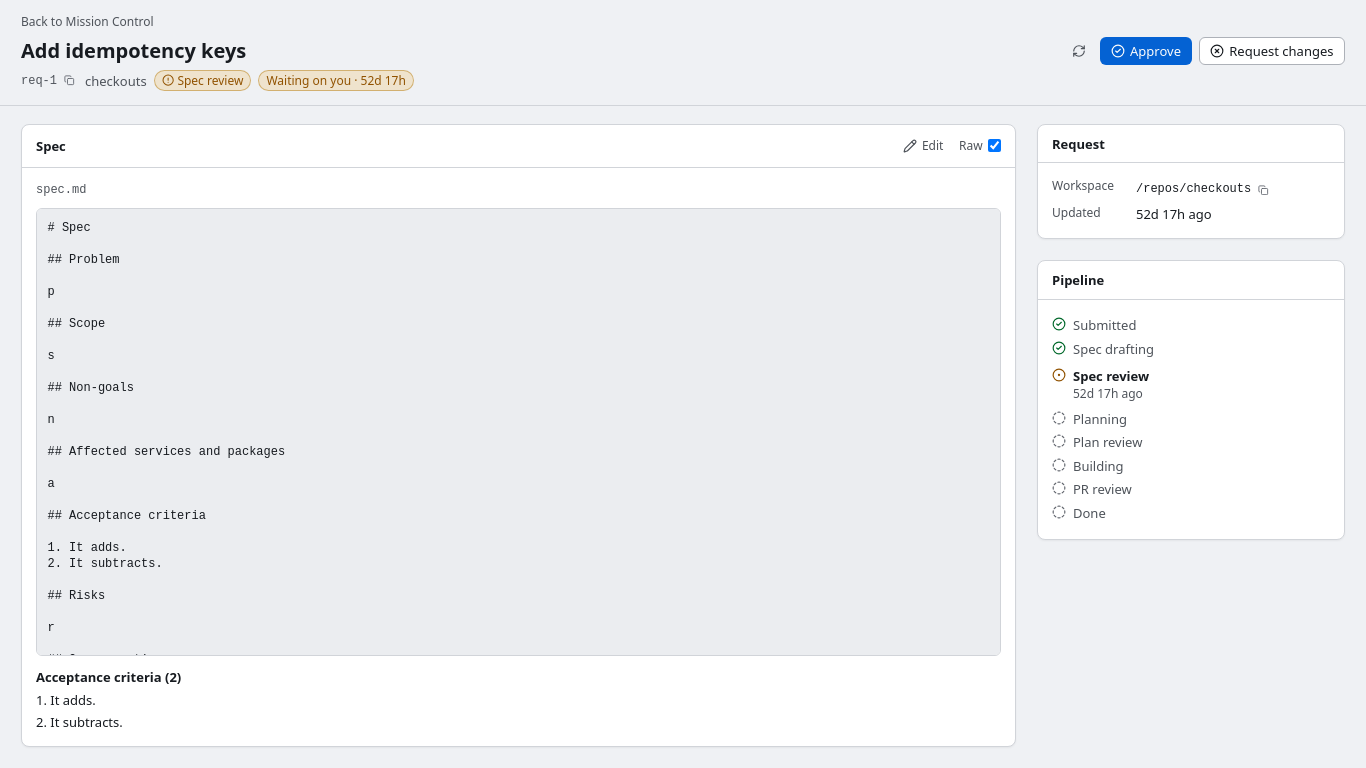
Test case: in the spec editor › a failing checklist does not disable Save, and the server's refusal still shows
Check: the heading "Add idempotency keys" is shown, box [21, 37, 246, 64]
Check: the button "Approve" is enabled, box [1100, 37, 1192, 65]
Click the button "Edit". click: {"x": 923, "y": 146}
box: [894, 134, 952, 158]
(page scrolled)
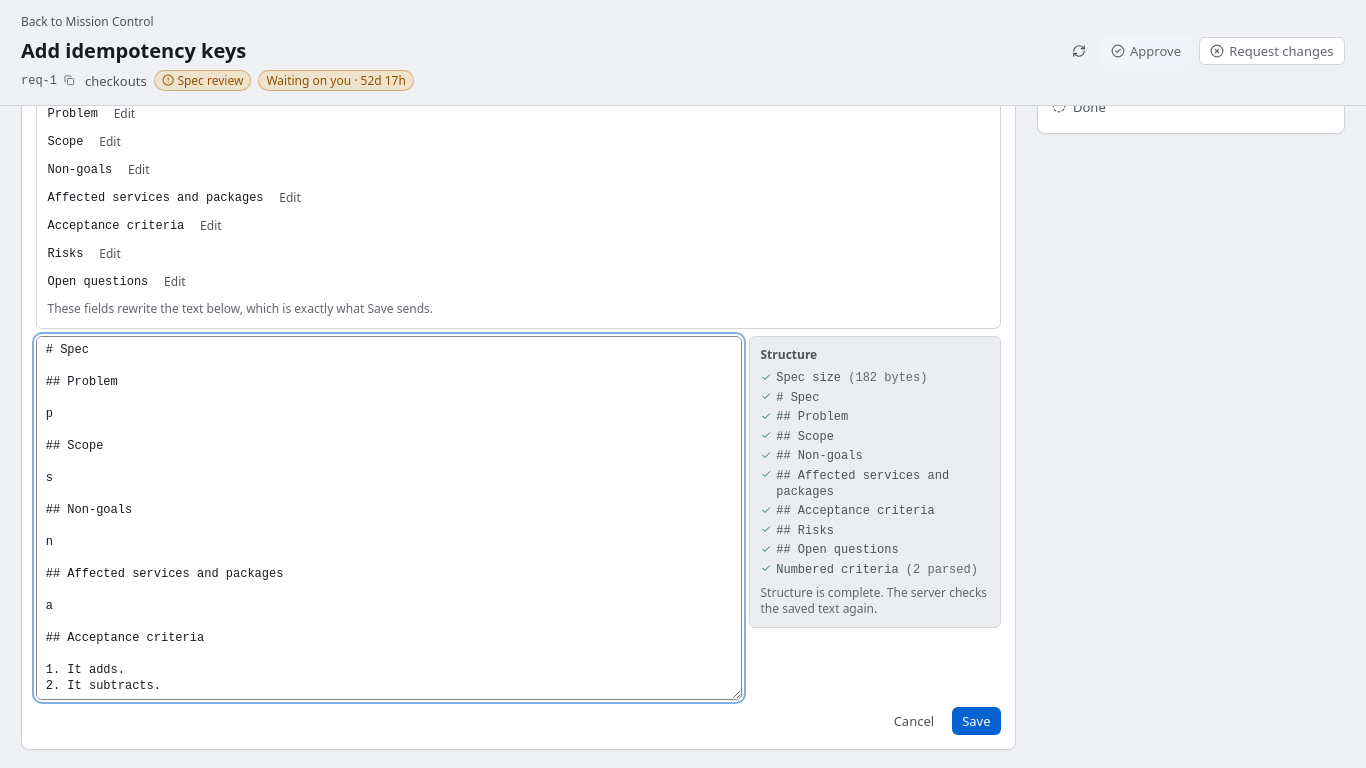
Clear the text box named "Edit spec.md". click: {"x": 389, "y": 518}
box: [36, 336, 742, 700]
(page scrolled)
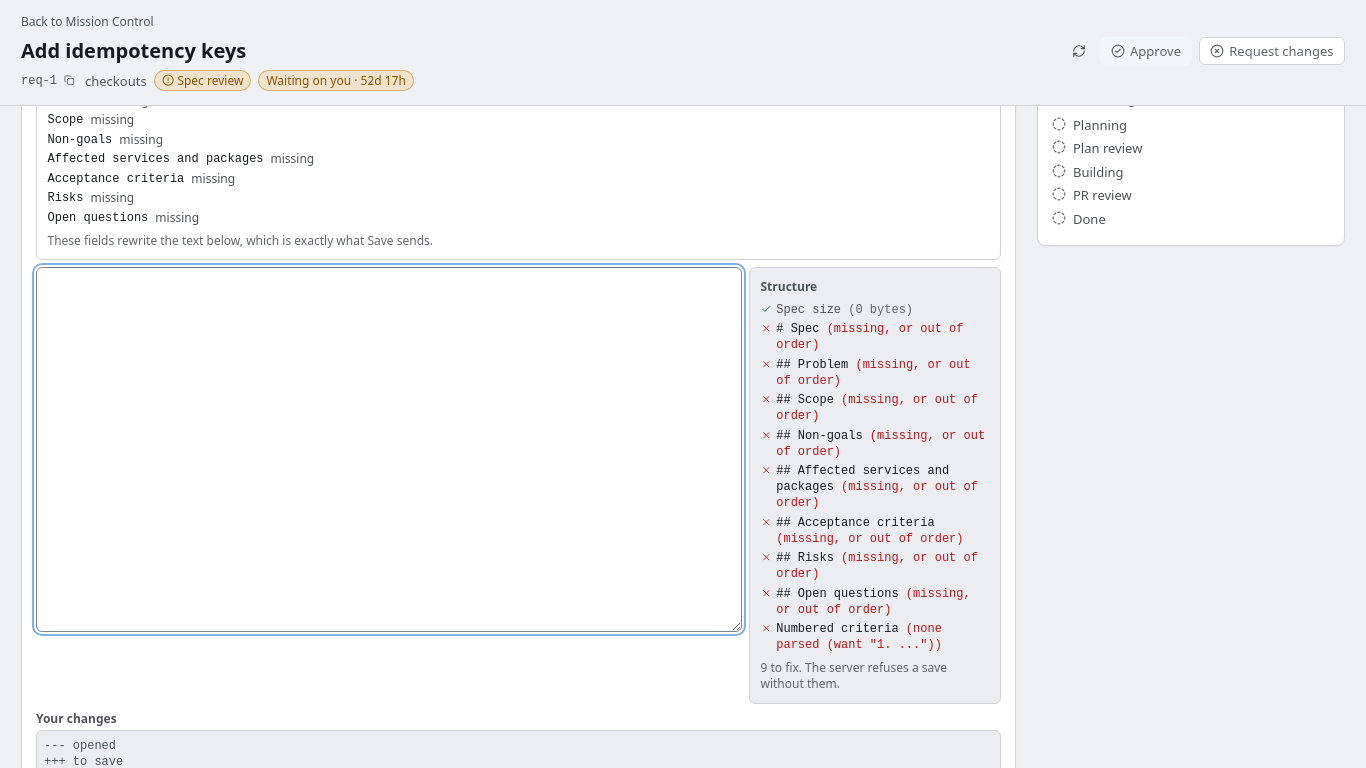
Type "# Spec" into the text box named "Edit spec.md". click: {"x": 389, "y": 450}
box: [36, 267, 742, 632]
(page scrolled)
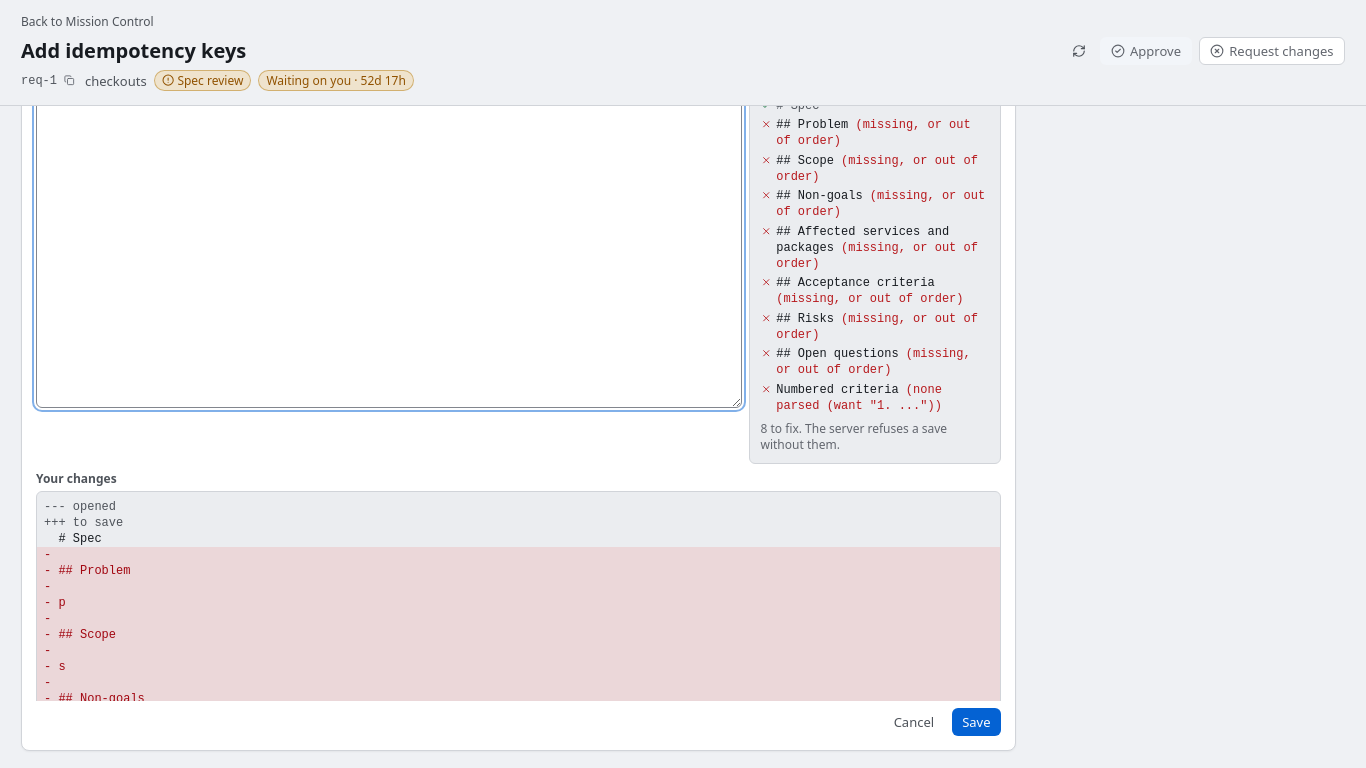
Check: the button "Save" is enabled
Click the button "Save". click: {"x": 976, "y": 722}
box: [952, 708, 1001, 736]
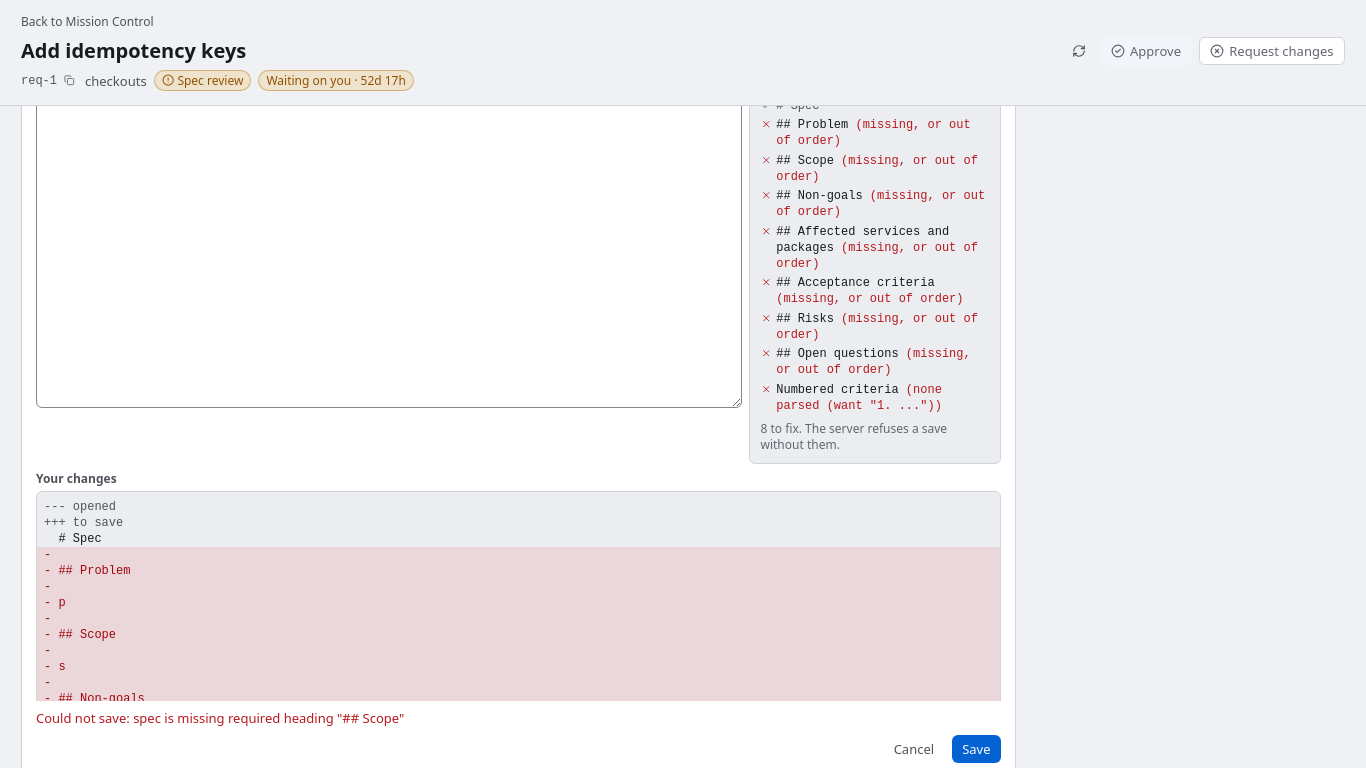
Check: the message "Could not save: spec is missing required heading \"## Scope\"" reads "Could not save: spec is missing required heading \"## Scope\"", box [36, 709, 404, 727]
